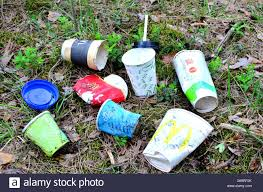paper_cup: (141, 108, 214, 172), (171, 49, 219, 112), (21, 110, 73, 159), (59, 36, 111, 71), (94, 99, 141, 137)
